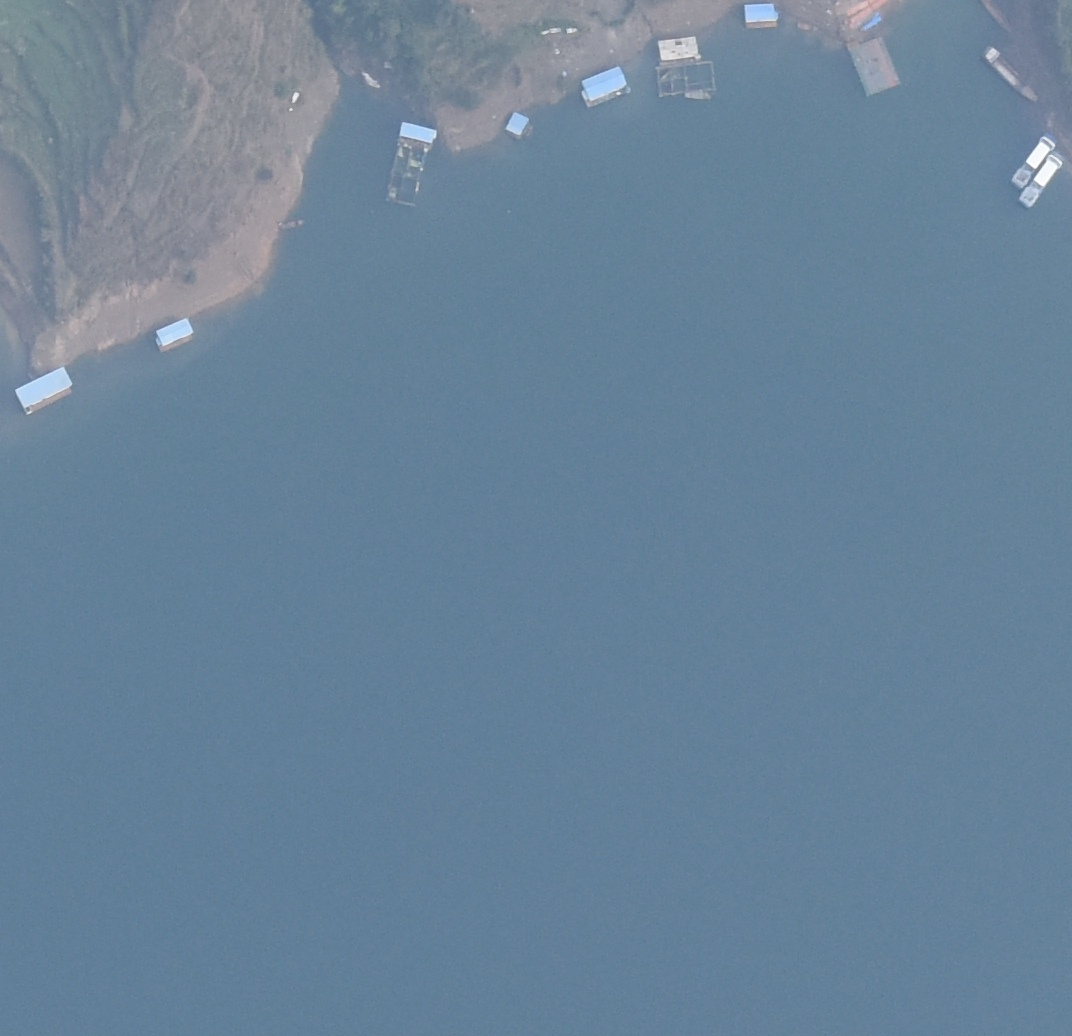cultivation-mesh-cage: (387, 138, 429, 209), (655, 61, 717, 97)
prefabricated-house: (15, 366, 75, 415), (581, 66, 629, 105), (155, 317, 194, 349), (658, 35, 699, 59), (399, 121, 438, 143), (743, 3, 778, 27), (505, 112, 530, 135)
ship: (980, 46, 1037, 101), (1010, 131, 1057, 189), (1020, 150, 1064, 206), (684, 91, 713, 101)
